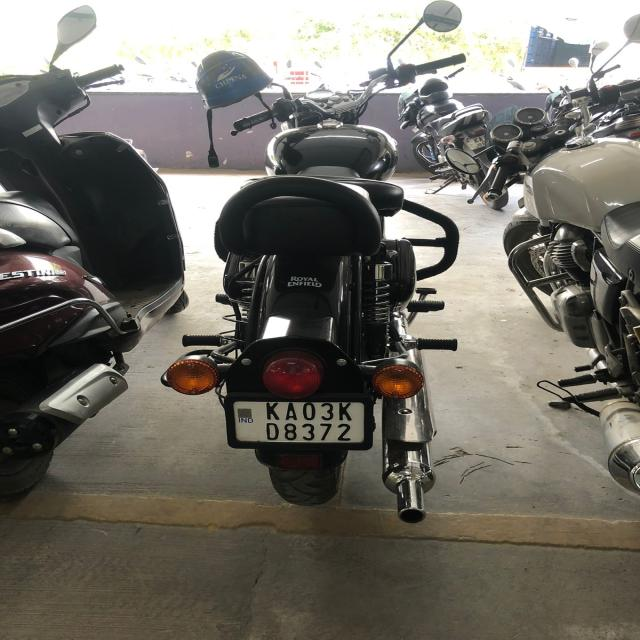license_plate: (228, 397, 371, 448)
